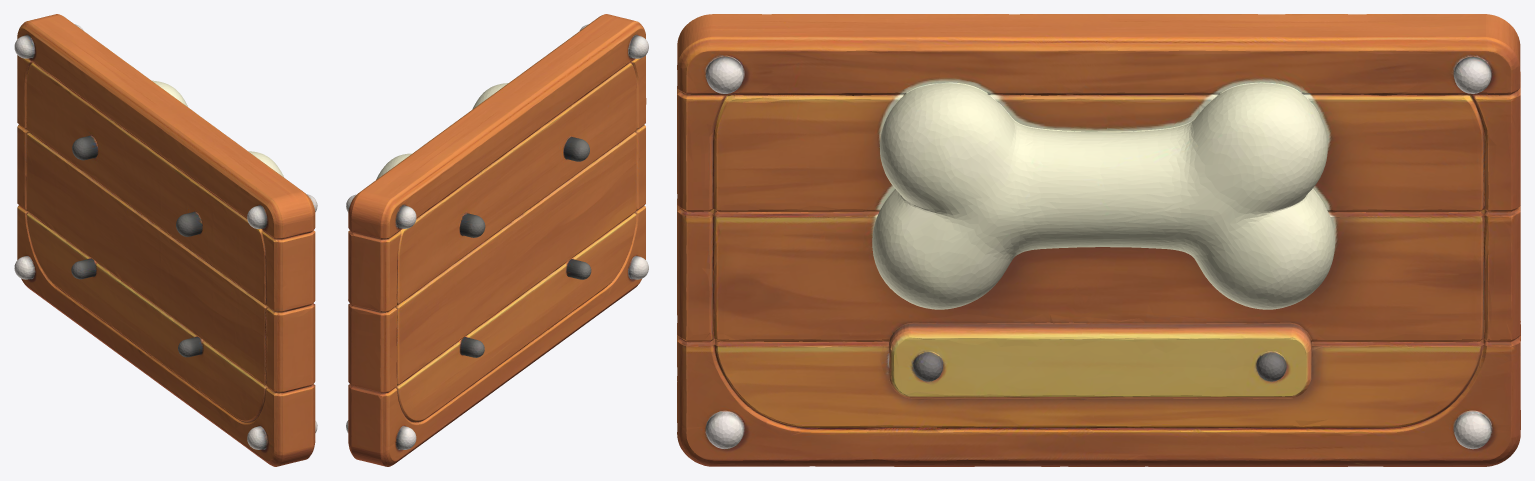
The model's file is sign_4.glb.
3 renders of one model, left to right at view 1: azimuth 30°, elevation 25°; view 2: azimuth 150°, elevation 25°; view 3: azimuth 270°, elevation 25°, orthographic. The views are drawn at different scales.
Visible parts, largest first — view 1: tripo_node_a0797edc-7cde-4589-ab02-ce7460a5b811; view 2: tripo_node_a0797edc-7cde-4589-ab02-ce7460a5b811; view 3: tripo_node_a0797edc-7cde-4589-ab02-ce7460a5b811.
Part boxes in pixels (x1,y1,x2,y2): tripo_node_a0797edc-7cde-4589-ab02-ce7460a5b811: [14, 14, 317, 466]; tripo_node_a0797edc-7cde-4589-ab02-ce7460a5b811: [346, 14, 648, 466]; tripo_node_a0797edc-7cde-4589-ab02-ce7460a5b811: [677, 14, 1520, 466].
Bounding box in the file's own units: 0.2499 × 0.5624 × 1.
Materials: 1 (1 with a texture image).
